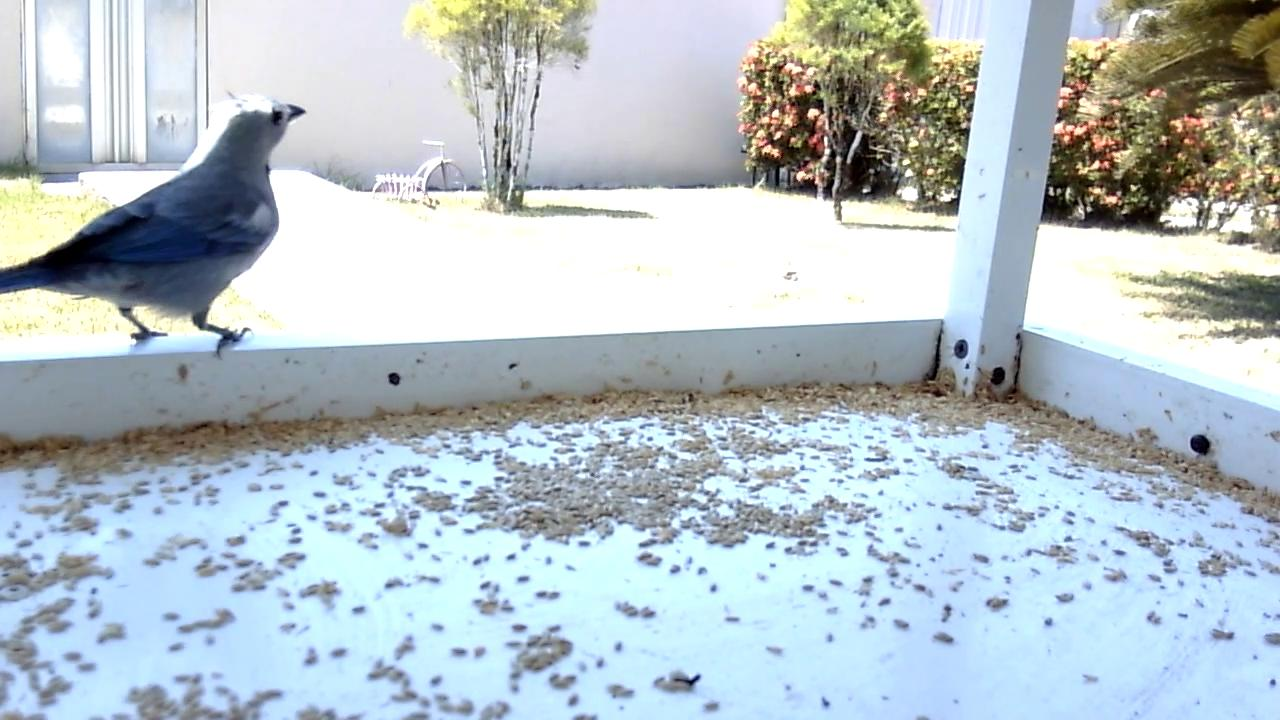sanhaco_da_amazonia: (1, 91, 308, 365)
